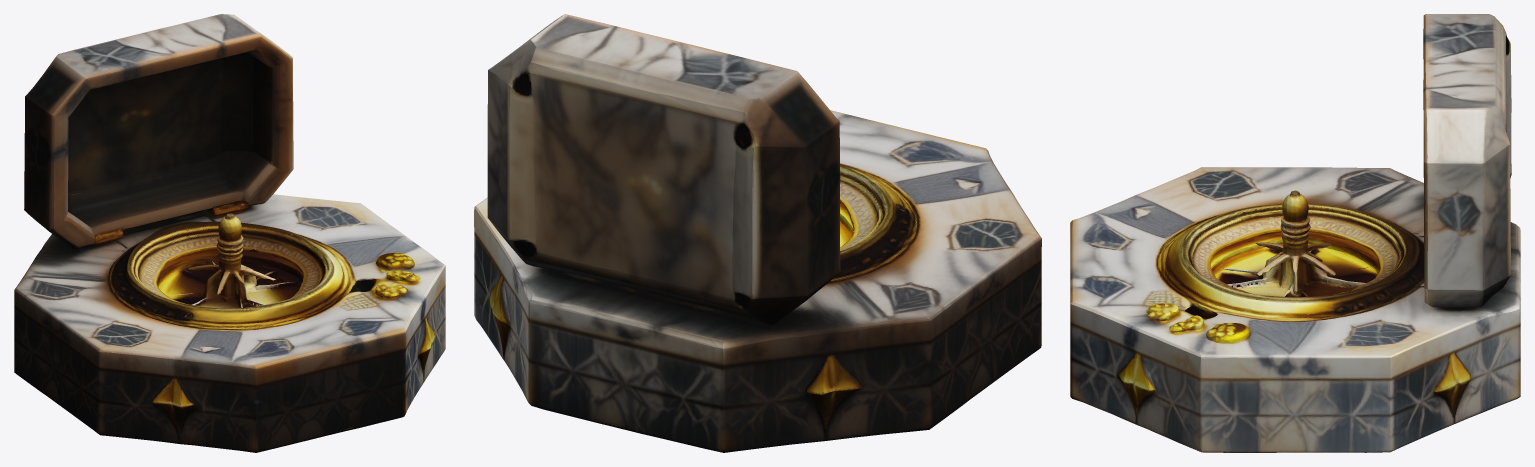
File: stone-compass-case-art-deco.jpeg.glb
The picture shows the model from 3 angles, left to right: view 1: azimuth 30°, elevation 25°; view 2: azimuth 150°, elevation 25°; view 3: azimuth 270°, elevation 25°; orthographic projection. The views are drawn at different scales.
Parts seen in each view (by area): view 1: world; view 2: world; view 3: world.
Part boxes in pixels (bbox=[...]): world: bbox=[14, 14, 445, 452]; world: bbox=[474, 14, 1041, 452]; world: bbox=[1070, 14, 1520, 452].
Bounding box in the file's own units: 1 × 0.7292 × 1.
1 material, 1 textured.
